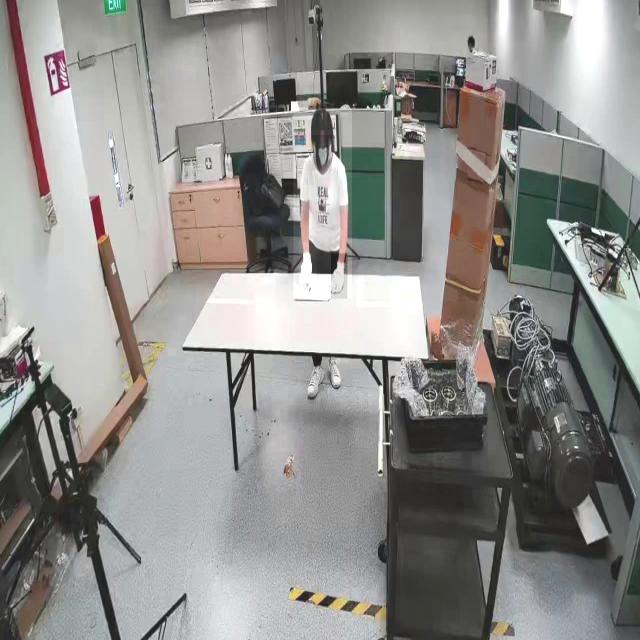face_mask: (312, 135, 332, 171)
hand_glove: (331, 253, 348, 300), (299, 242, 317, 284)
head_nohelmet: (310, 106, 332, 130), (467, 34, 475, 41)
person: (294, 108, 352, 298)
shoes: (306, 362, 324, 402), (326, 354, 344, 392)
